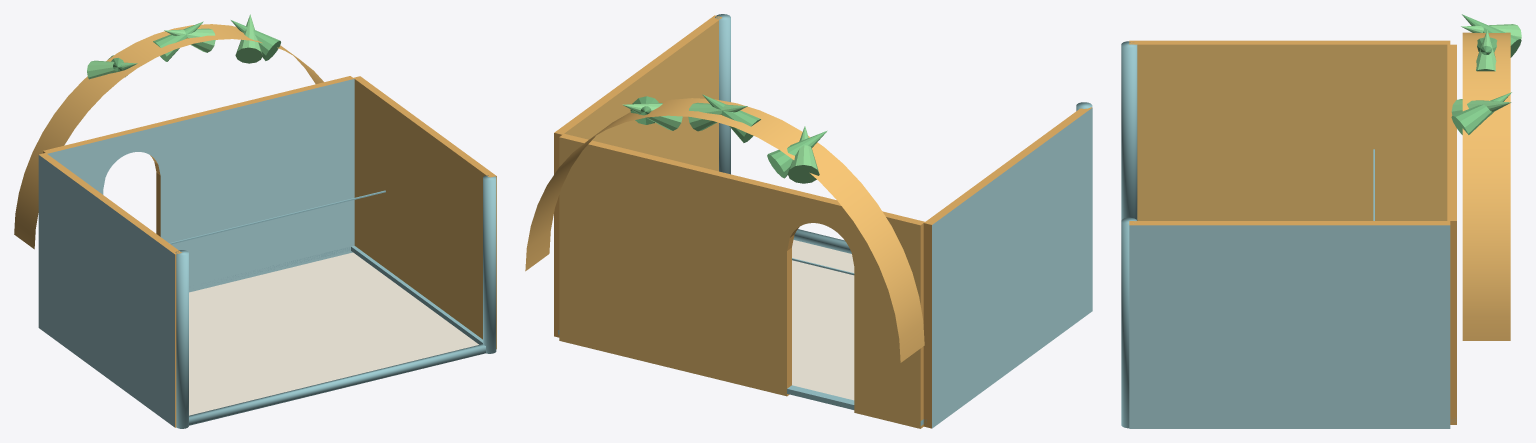
The model's file is room-shell-v3.glb.
The picture shows the model from 3 angles, left to right: view 1: azimuth 30°, elevation 25°; view 2: azimuth 150°, elevation 25°; view 3: azimuth 270°, elevation 25°; orthographic projection. The views are drawn at different scales.
Parts seen in each view (by area): view 1: wall_back, floor_warm, wall_left, wall_right, roof_band, front_sill, corner_post_2.6_-1.7, corner_post_-2.6_-1.7, Cube.002, Cone.005, wainscot_back, Cone (+3 smaller); view 2: wall_back, wall_left, wall_right, roof_band, floor_warm, corner_post_2.6_-1.7, Cone.003, Cone.002, Cube, Cone.001, front_sill, Cone.004 (+1 smaller); view 3: wall_right, wall_left, roof_band, wall_back, corner_post_-2.6_-1.7, corner_post_2.6_-1.7, Cone, Cone.001, Cone.005, Cone.002, Cone.003.
Part boxes in pixels (x1,y1,x2,y2): wall_back: [43, 76, 354, 292]; floor_warm: [189, 252, 478, 415]; wall_left: [38, 153, 181, 427]; wall_right: [353, 76, 496, 349]; roof_band: [14, 24, 323, 249]; front_sill: [189, 344, 485, 425]; corner_post_2.6_-1.7: [483, 175, 496, 353]; corner_post_-2.6_-1.7: [175, 250, 188, 428]; Cube.002: [351, 245, 482, 344]; Cone.005: [235, 14, 262, 63]; wainscot_back: [169, 190, 385, 244]; Cone: [231, 20, 280, 60]; wall_back: [559, 133, 924, 428]; wall_left: [923, 107, 1092, 428]; wall_right: [554, 15, 721, 337]; roof_band: [525, 98, 924, 362]; floor_warm: [792, 240, 854, 400]; corner_post_2.6_-1.7: [715, 14, 730, 174]; Cone.003: [787, 126, 819, 183]; Cone.002: [767, 130, 827, 178]; Cube: [787, 385, 923, 425]; Cone.001: [688, 102, 747, 131]; front_sill: [793, 229, 851, 253]; Cone.004: [702, 94, 760, 142]; wall_right: [1129, 221, 1450, 428]; wall_left: [1129, 40, 1450, 220]; roof_band: [1462, 32, 1510, 340]; wall_back: [1447, 44, 1456, 424]; corner_post_-2.6_-1.7: [1121, 41, 1137, 220]; corner_post_2.6_-1.7: [1121, 217, 1136, 428]; Cone: [1451, 92, 1511, 134]; Cone.001: [1476, 30, 1496, 71]; Cone.005: [1451, 99, 1511, 115]; Cone.002: [1462, 14, 1521, 57]; Cone.003: [1461, 24, 1521, 39].
Size of the model in its own units: 5.44 by 4.06 by 4.99.
